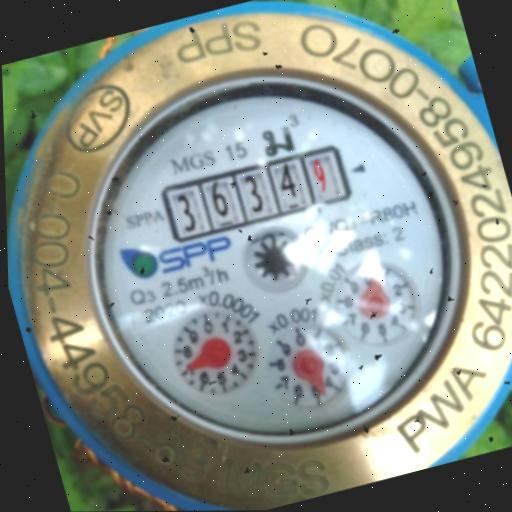3: (240, 174, 272, 220), (173, 191, 204, 235)
4: (276, 166, 305, 209)
6: (206, 182, 236, 228)
9: (309, 157, 340, 200)
border_water_meter_number: (158, 142, 355, 245)
